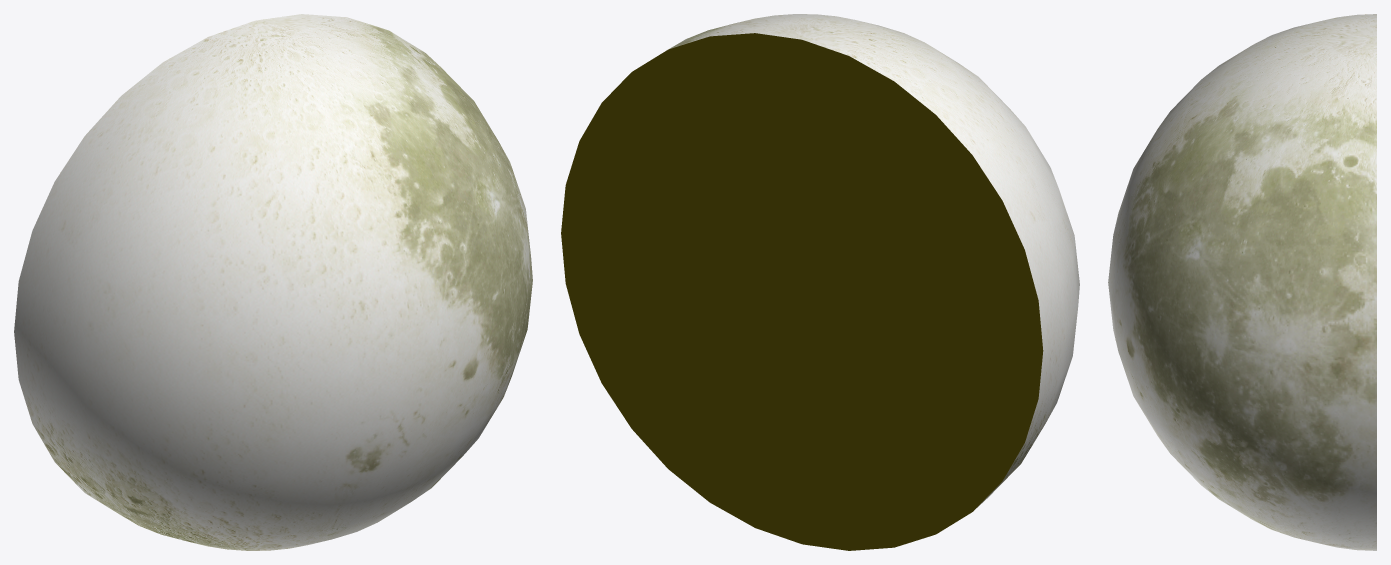
Rendered from 月と鏡.fbx.
3 renders of one model, left to right at view 1: azimuth 30°, elevation 25°; view 2: azimuth 150°, elevation 25°; view 3: azimuth 270°, elevation 25°, orthographic. The views are drawn at different scales.
Parts seen in each view (by area): view 1: 球; view 2: 円, 球; view 3: 球.
Boxes of the visible parts, x1,y1,x2,y2 form: 球: [14, 14, 532, 550]; 円: [561, 33, 1043, 550]; 球: [669, 14, 1079, 510]; 球: [1108, 14, 1376, 550].
Bounding box in the file's own units: 200 × 200 × 100.
